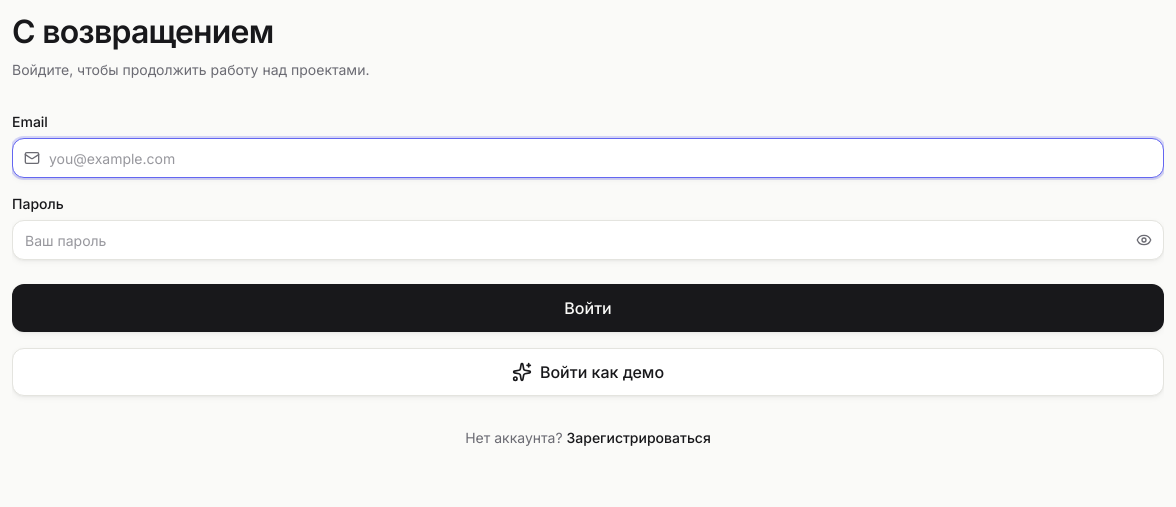
Test case: LoginPage › пустая форма: ошибки под полями, запрос не уходит
Click the button "Войти" at [588, 308], box [12,284,1164,332]
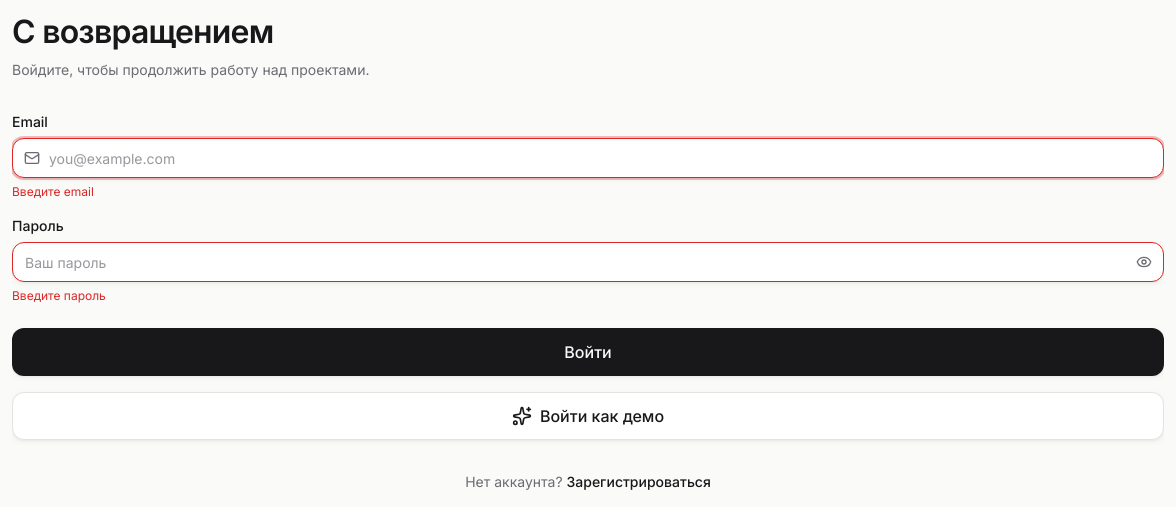
expect the text "Введите email" is shown: met, box [12,184,94,199]
expect the text "Введите пароль" is shown: met, box [12,288,106,303]
